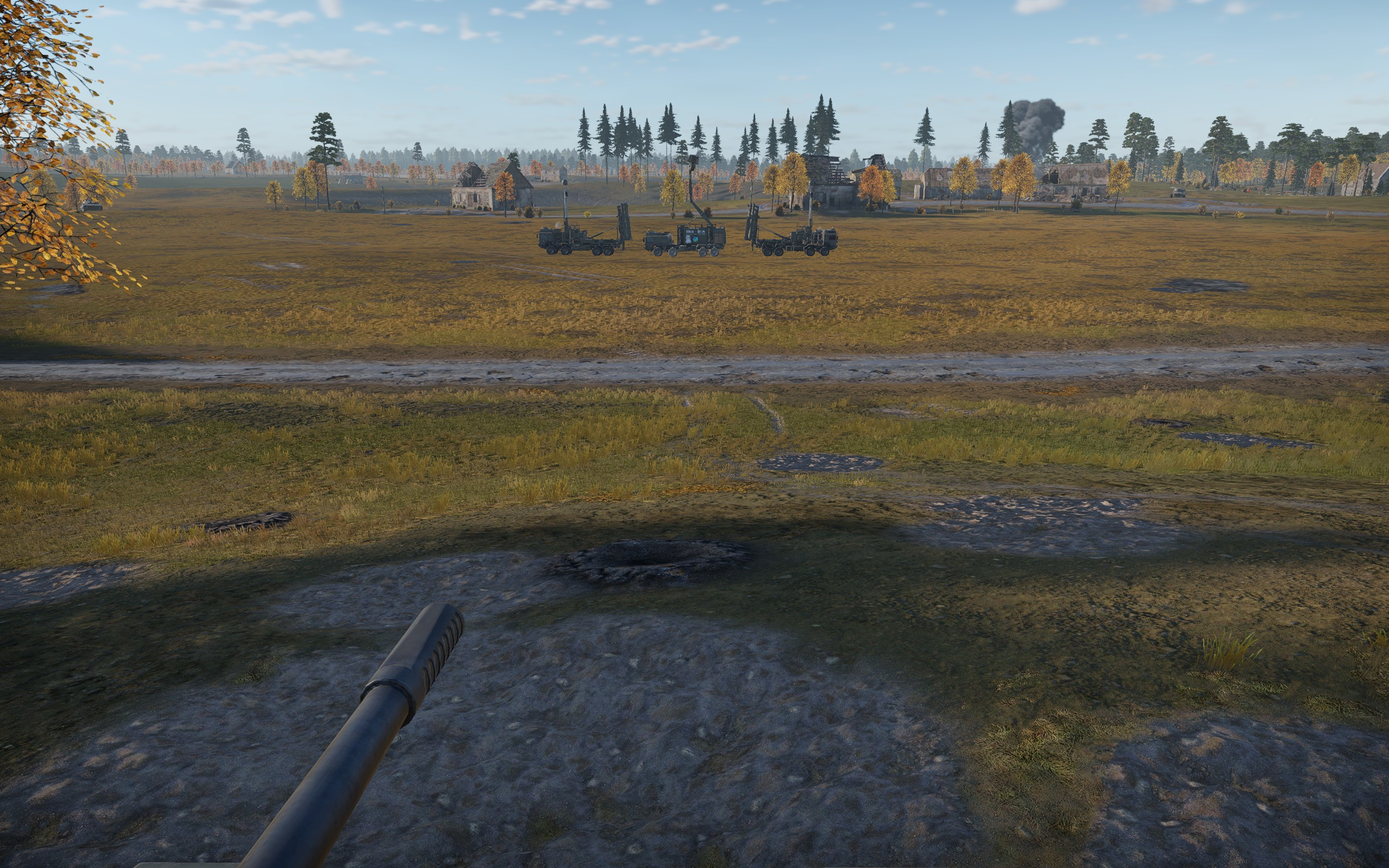spaa_TEL: (536, 180, 633, 256), (743, 181, 839, 256)
spaa_tads: (642, 155, 726, 257)
